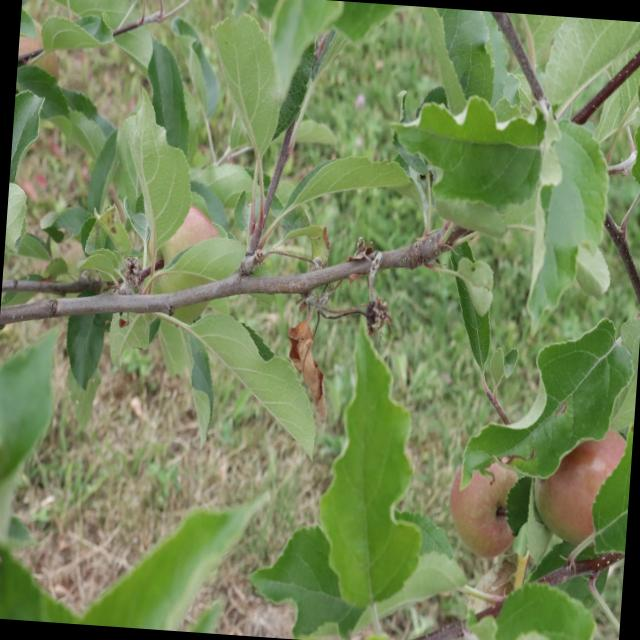-FireBlight-: (276, 306, 349, 428)
